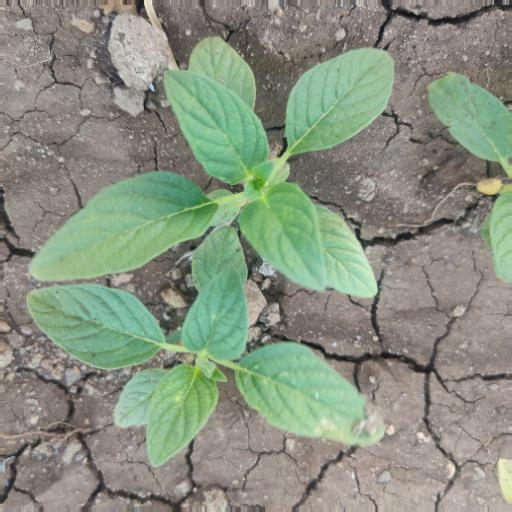crop: (13, 30, 411, 300), (18, 279, 392, 478)
